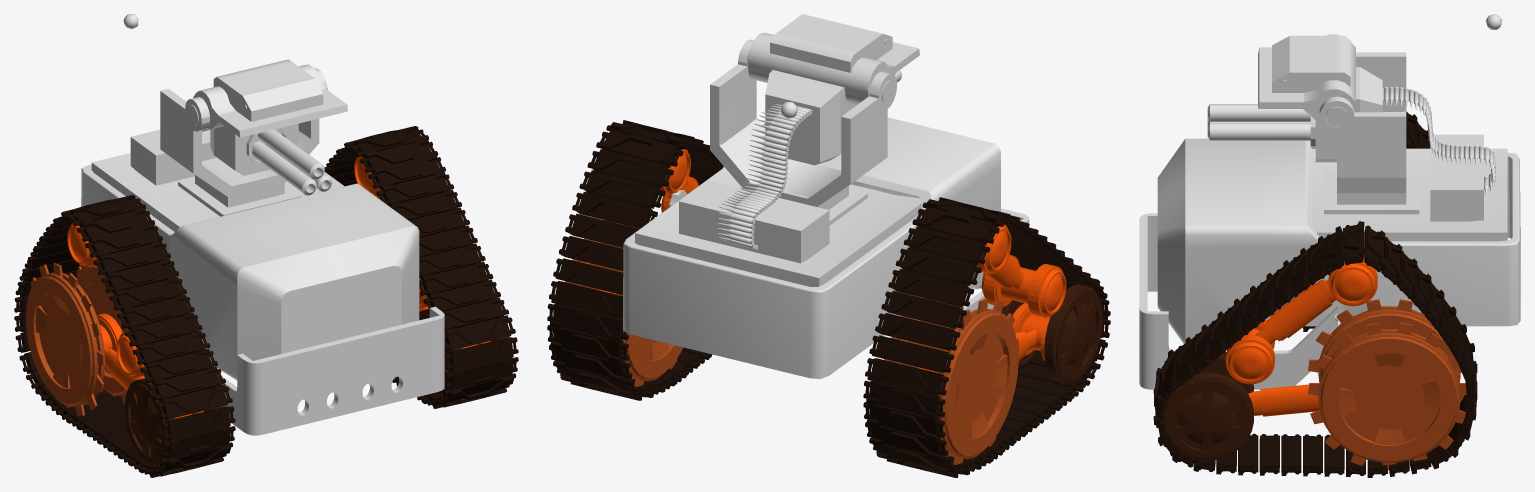
File: Ennemi_2_fini.fbx
The picture shows the model from 3 angles, left to right: view 1: azimuth 30°, elevation 25°; view 2: azimuth 150°, elevation 25°; view 3: azimuth 270°, elevation 25°; orthographic projection. The views are drawn at different scales.
Parts seen in each view (by area): view 1: Line001, Chenille005, Chenille004, Box006, Cylinder057, Cylinder001, Cylinder002, Box002, Cylinder059, Cylinder058, Box005, Box004 (+3 smaller); view 2: Line001, Chenille005, Chenille004, Cylinder001, Box002, Cylinder057, Cylinder002, Box005, Cylinder059, Box004, Cylinder056, Cylinder058 (+2 smaller); view 3: Line001, Chenille004, Cylinder029, Cylinder001, Cylinder031, Box002, Cylinder002, Cylinder030, Box006, Box005, Cylinder056, Box004 (+3 smaller).
Boxes of the visible parts, bbox=[...] form: Line001: bbox=[81, 164, 419, 380]; Chenille005: bbox=[14, 195, 235, 477]; Chenille004: bbox=[324, 126, 518, 408]; Box006: bbox=[218, 306, 444, 435]; Cylinder057: bbox=[26, 263, 148, 415]; Cylinder001: bbox=[160, 68, 327, 216]; Cylinder002: bbox=[187, 59, 347, 137]; Box002: bbox=[91, 153, 343, 231]; Cylinder059: bbox=[67, 222, 203, 418]; Cylinder058: bbox=[124, 378, 222, 466]; Box005: bbox=[130, 129, 216, 185]; Box004: bbox=[210, 123, 298, 175]; Line001: bbox=[623, 117, 1000, 378]; Chenille005: bbox=[863, 197, 1110, 477]; Chenille004: bbox=[547, 120, 723, 400]; Cylinder001: bbox=[710, 39, 896, 225]; Box002: bbox=[635, 167, 921, 286]; Cylinder057: bbox=[884, 298, 1019, 464]; Cylinder002: bbox=[747, 14, 919, 104]; Box005: bbox=[679, 180, 829, 263]; Cylinder059: bbox=[918, 224, 1066, 372]; Box004: bbox=[765, 70, 856, 165]; Cylinder056: bbox=[715, 104, 812, 249]; Cylinder058: bbox=[1001, 284, 1102, 382]; Line001: bbox=[1157, 138, 1520, 343]; Chenille004: bbox=[1153, 221, 1477, 477]; Cylinder029: bbox=[1308, 299, 1466, 470]; Cylinder001: bbox=[1319, 52, 1419, 214]; Cylinder031: bbox=[1225, 239, 1377, 416]; Box002: bbox=[1312, 148, 1507, 241]; Cylinder002: bbox=[1258, 34, 1355, 126]; Cylinder030: bbox=[1162, 352, 1253, 460]; Box006: bbox=[1139, 213, 1337, 389]; Box005: bbox=[1430, 134, 1483, 221]; Cylinder056: bbox=[1382, 87, 1495, 195]; Box004: bbox=[1310, 67, 1382, 162].
Bounding box in the file's own units: 1.75 × 1.59 × 1.57.
